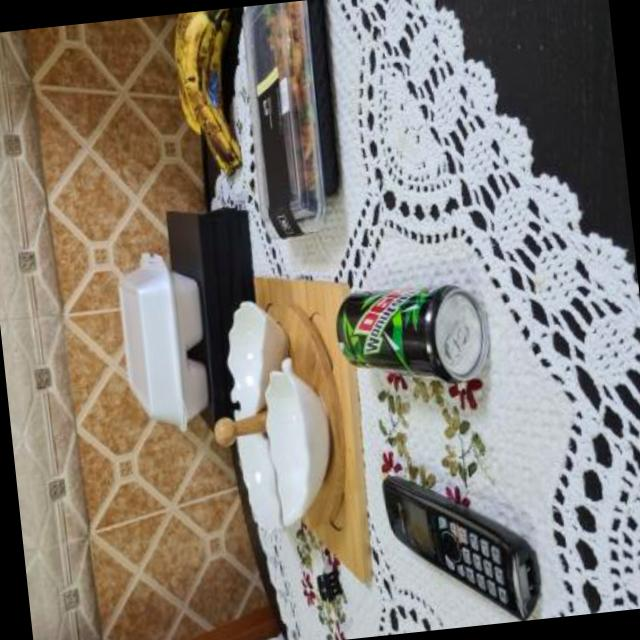metal: (335, 285, 487, 382)
